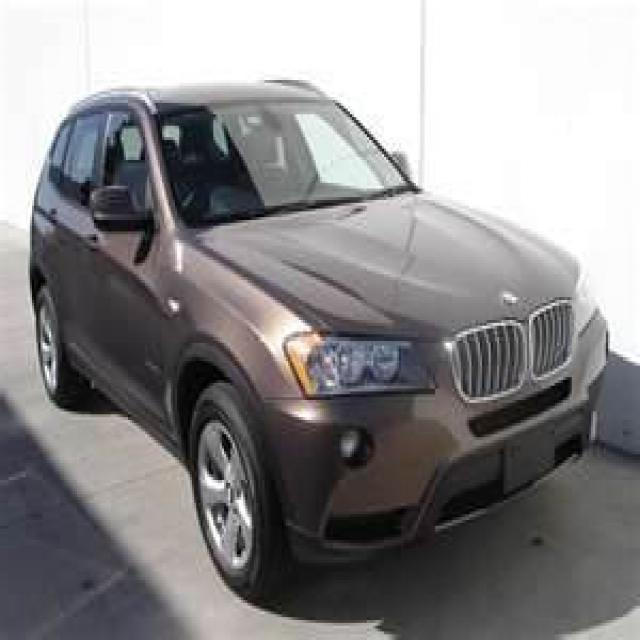Car: (10, 67, 617, 607)
